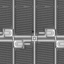dust: (31, 29, 34, 34)
